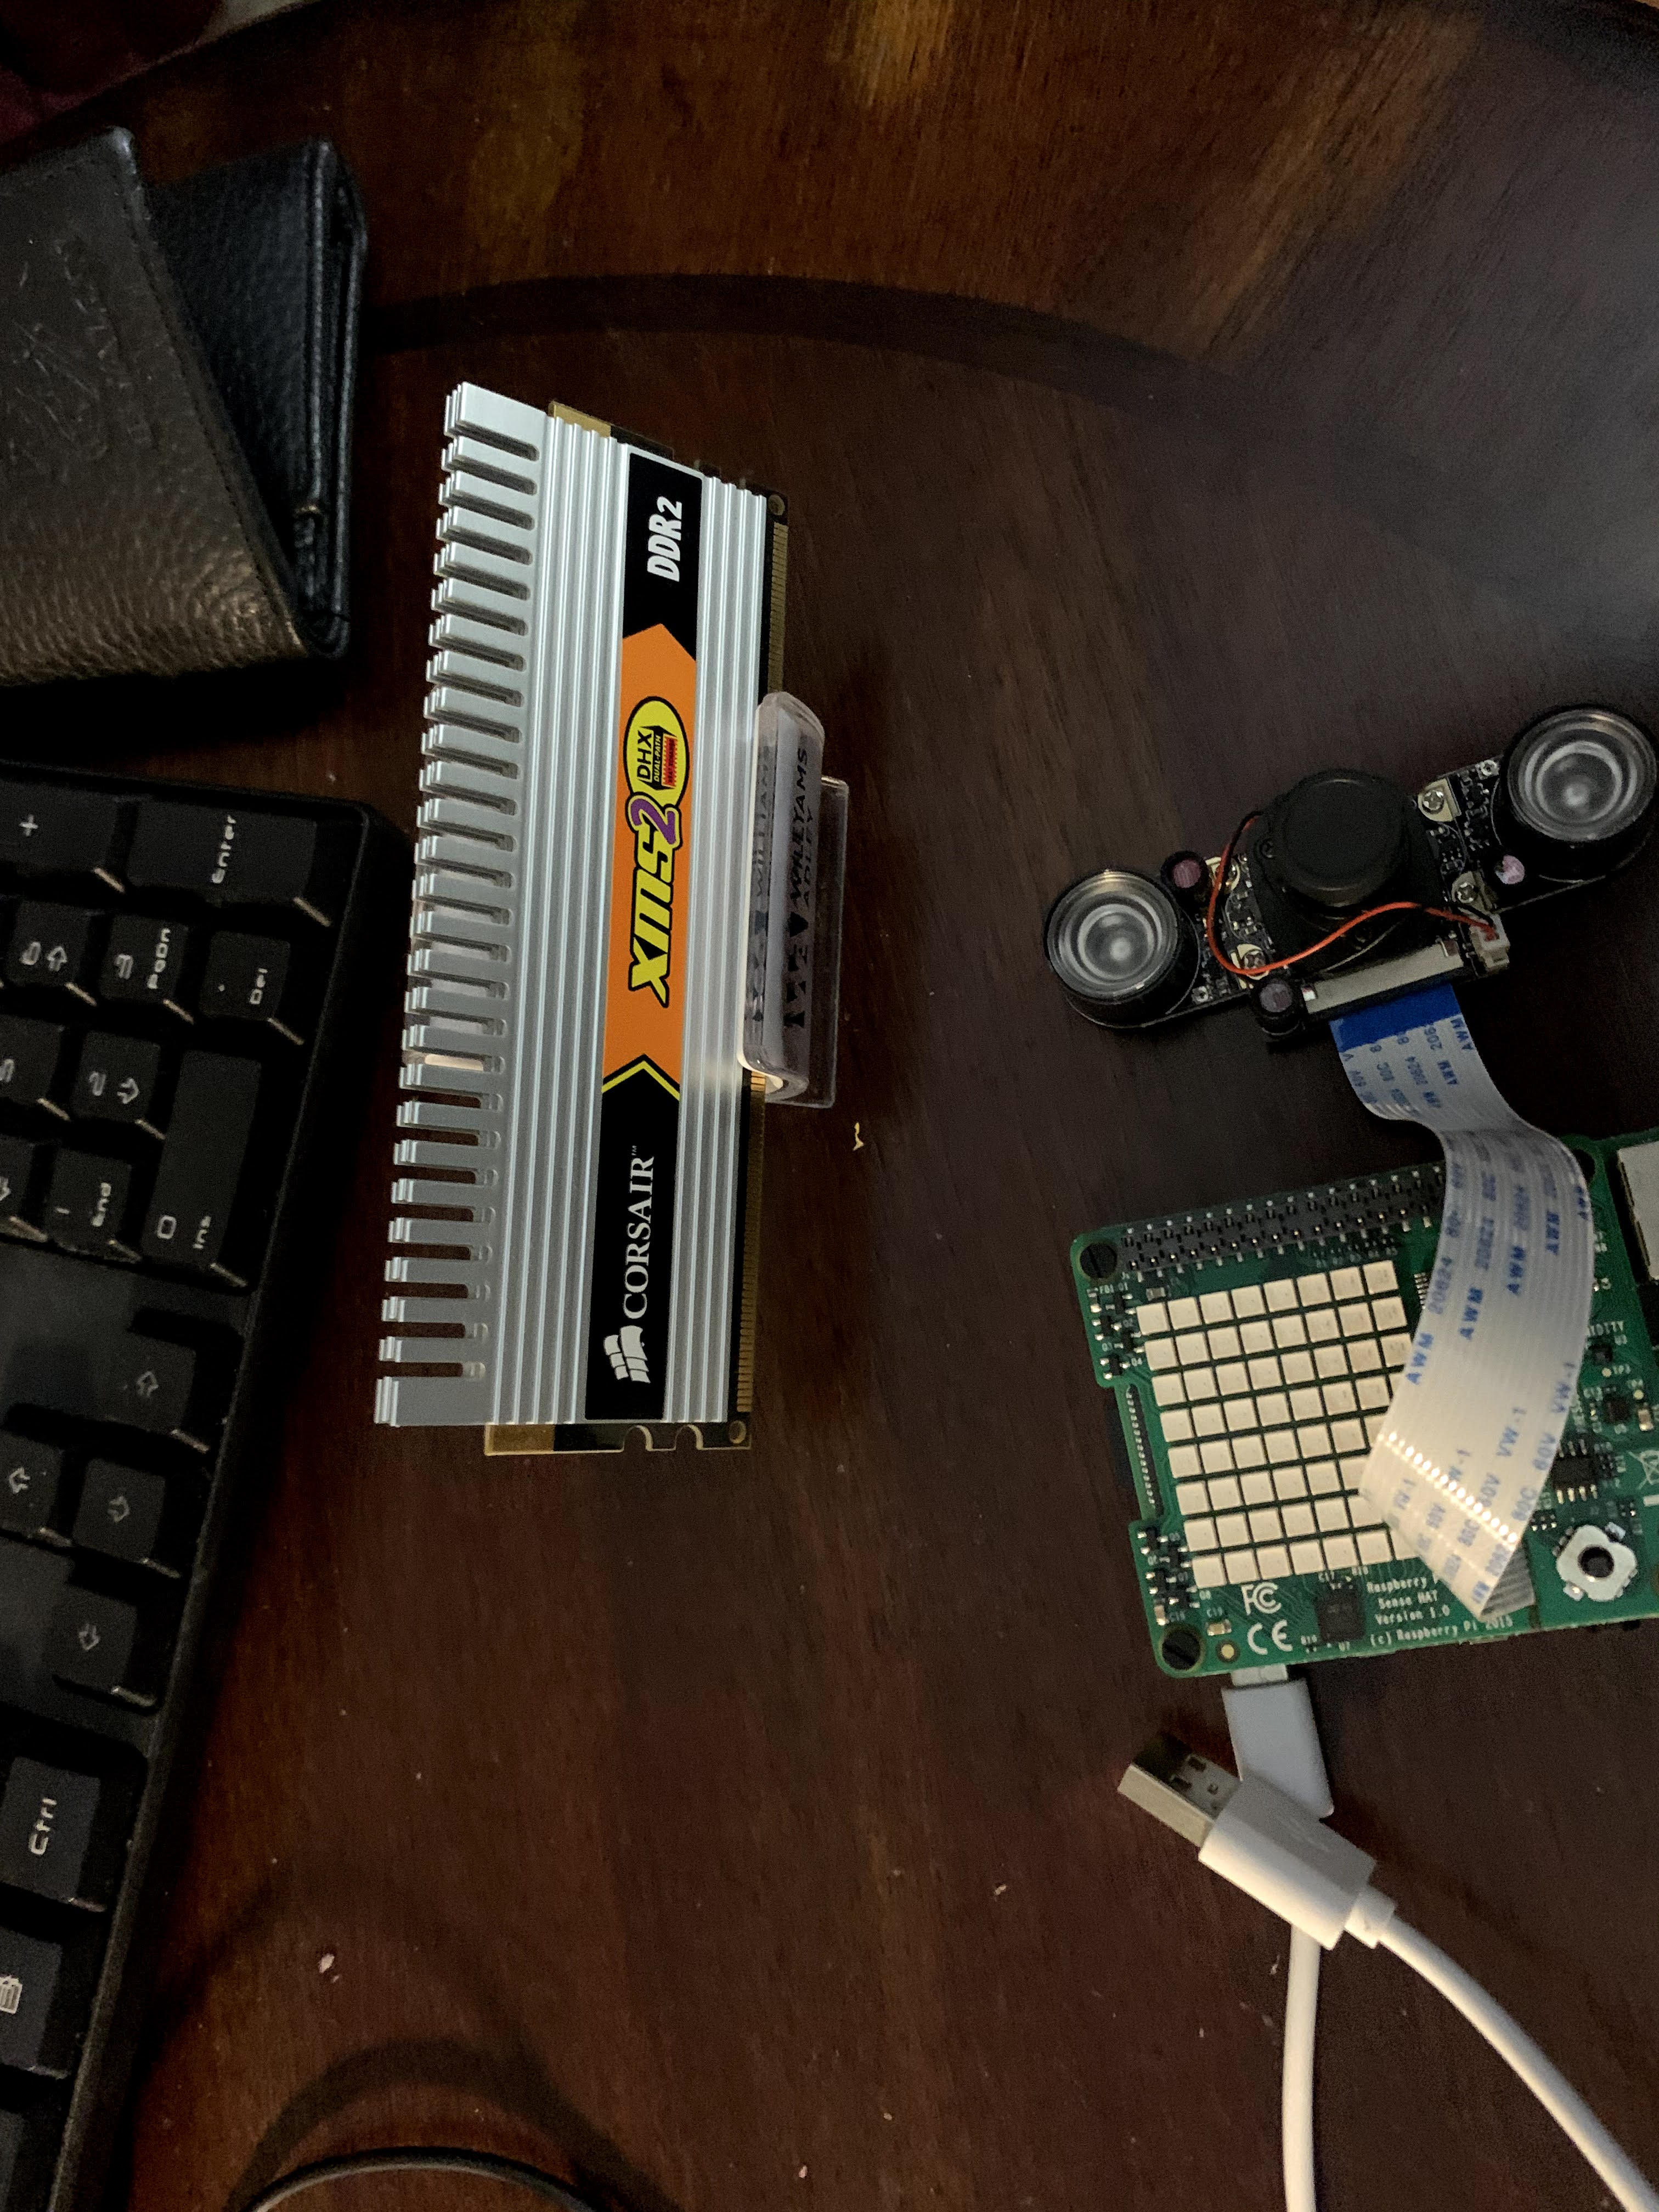Space-debris-medium: (380, 352, 775, 1482)
